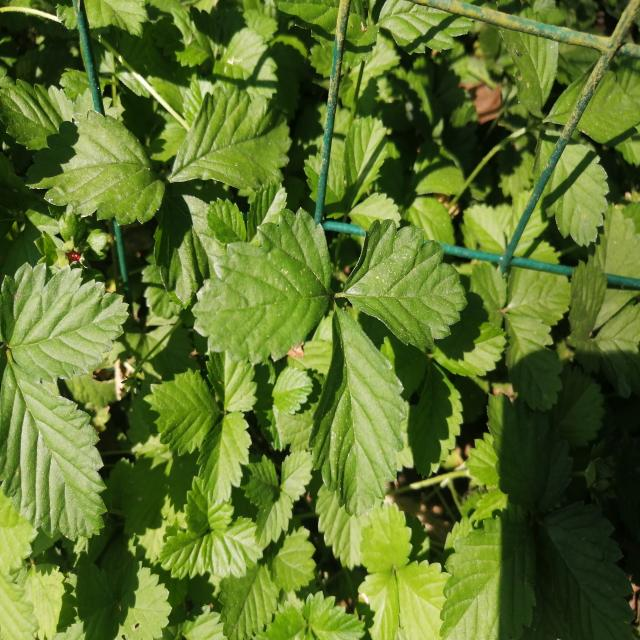Mock_strawberry: (183, 189, 439, 501), (125, 358, 286, 587)
